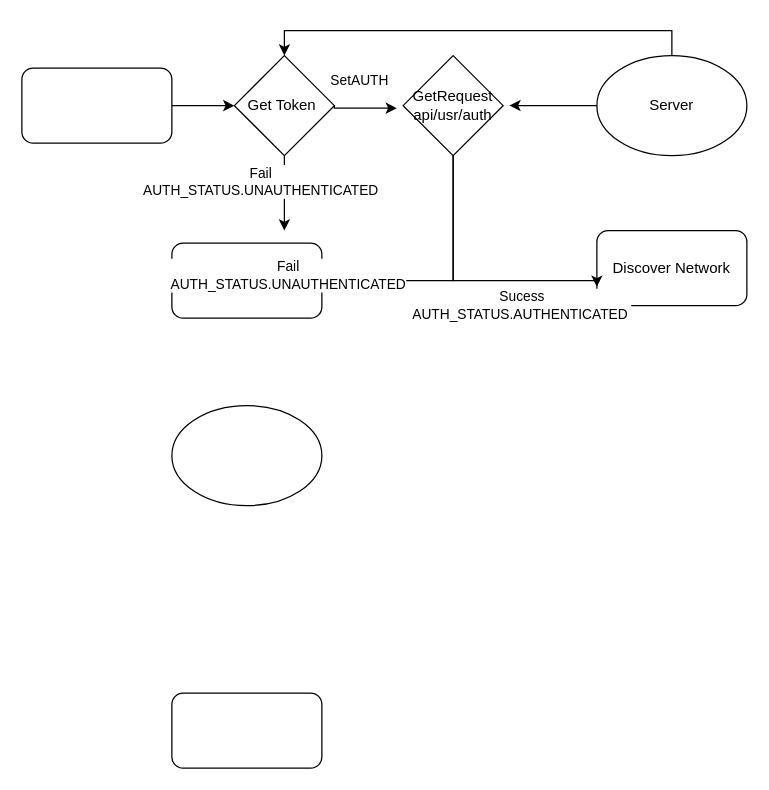
This 769x790 diagram has some shape labels left out. The centre of each missing label's shape, as x and y in pixels:
"devices" belongs at (x=246, y=455).
"Home" belongs at (x=246, y=730).
"Start" belongs at (x=96, y=105).
